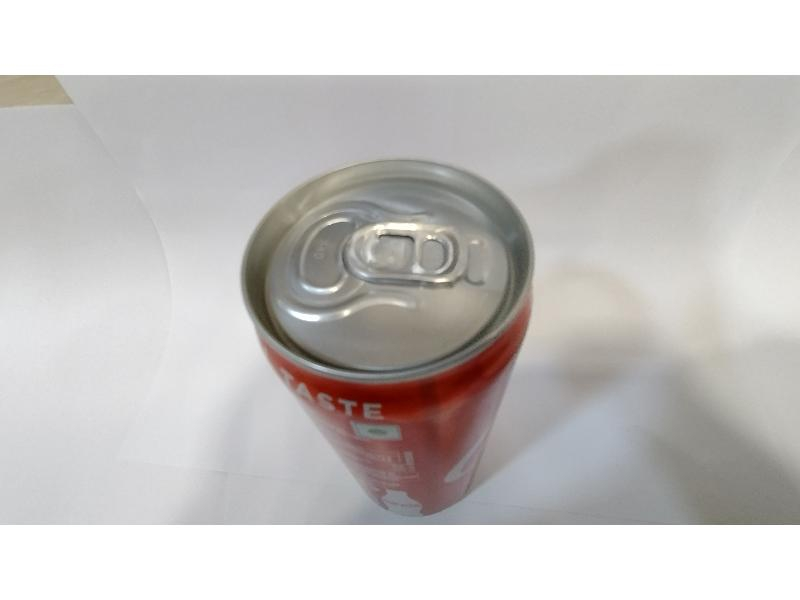can: (237, 160, 538, 519)
